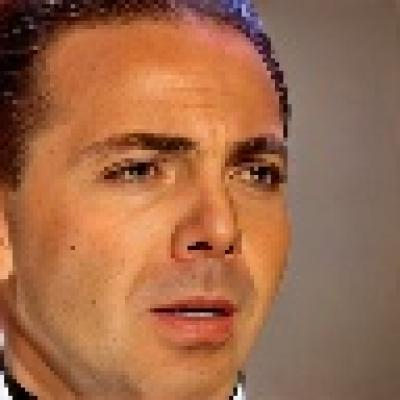sad: (11, 27, 290, 399)
